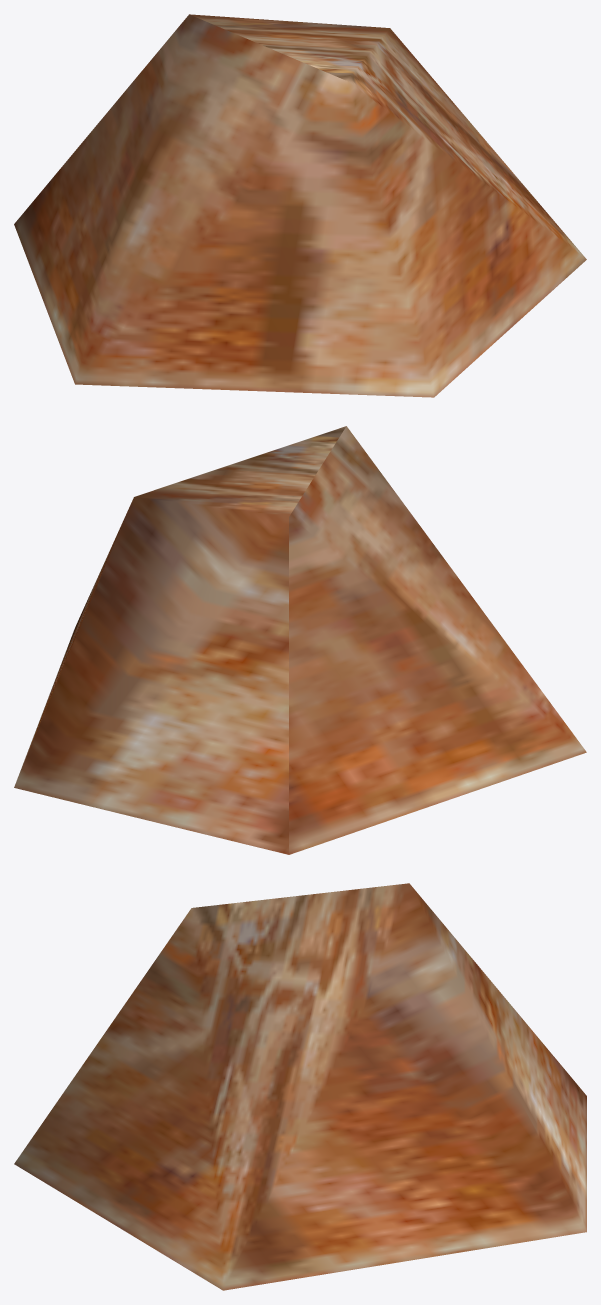
The model's file is edb_food_bread_loaf_full_s1_l2.fbx.
3 views of the same model, one above another, from view 1: azimuth 30°, elevation 25°; view 2: azimuth 150°, elevation 25°; view 3: azimuth 270°, elevation 25° (orthographic).
Visible parts, largest first — view 1: mesh_node; view 2: mesh_node; view 3: mesh_node.
Boxes of the visible parts, <box> form: mesh_node: <box>14,14,586,397</box>; mesh_node: <box>14,426,586,854</box>; mesh_node: <box>14,883,586,1290</box>.
Size of the model in its own units: 0.2739 by 0.1292 by 0.2619.
Materials: 1 (1 with a texture image).
